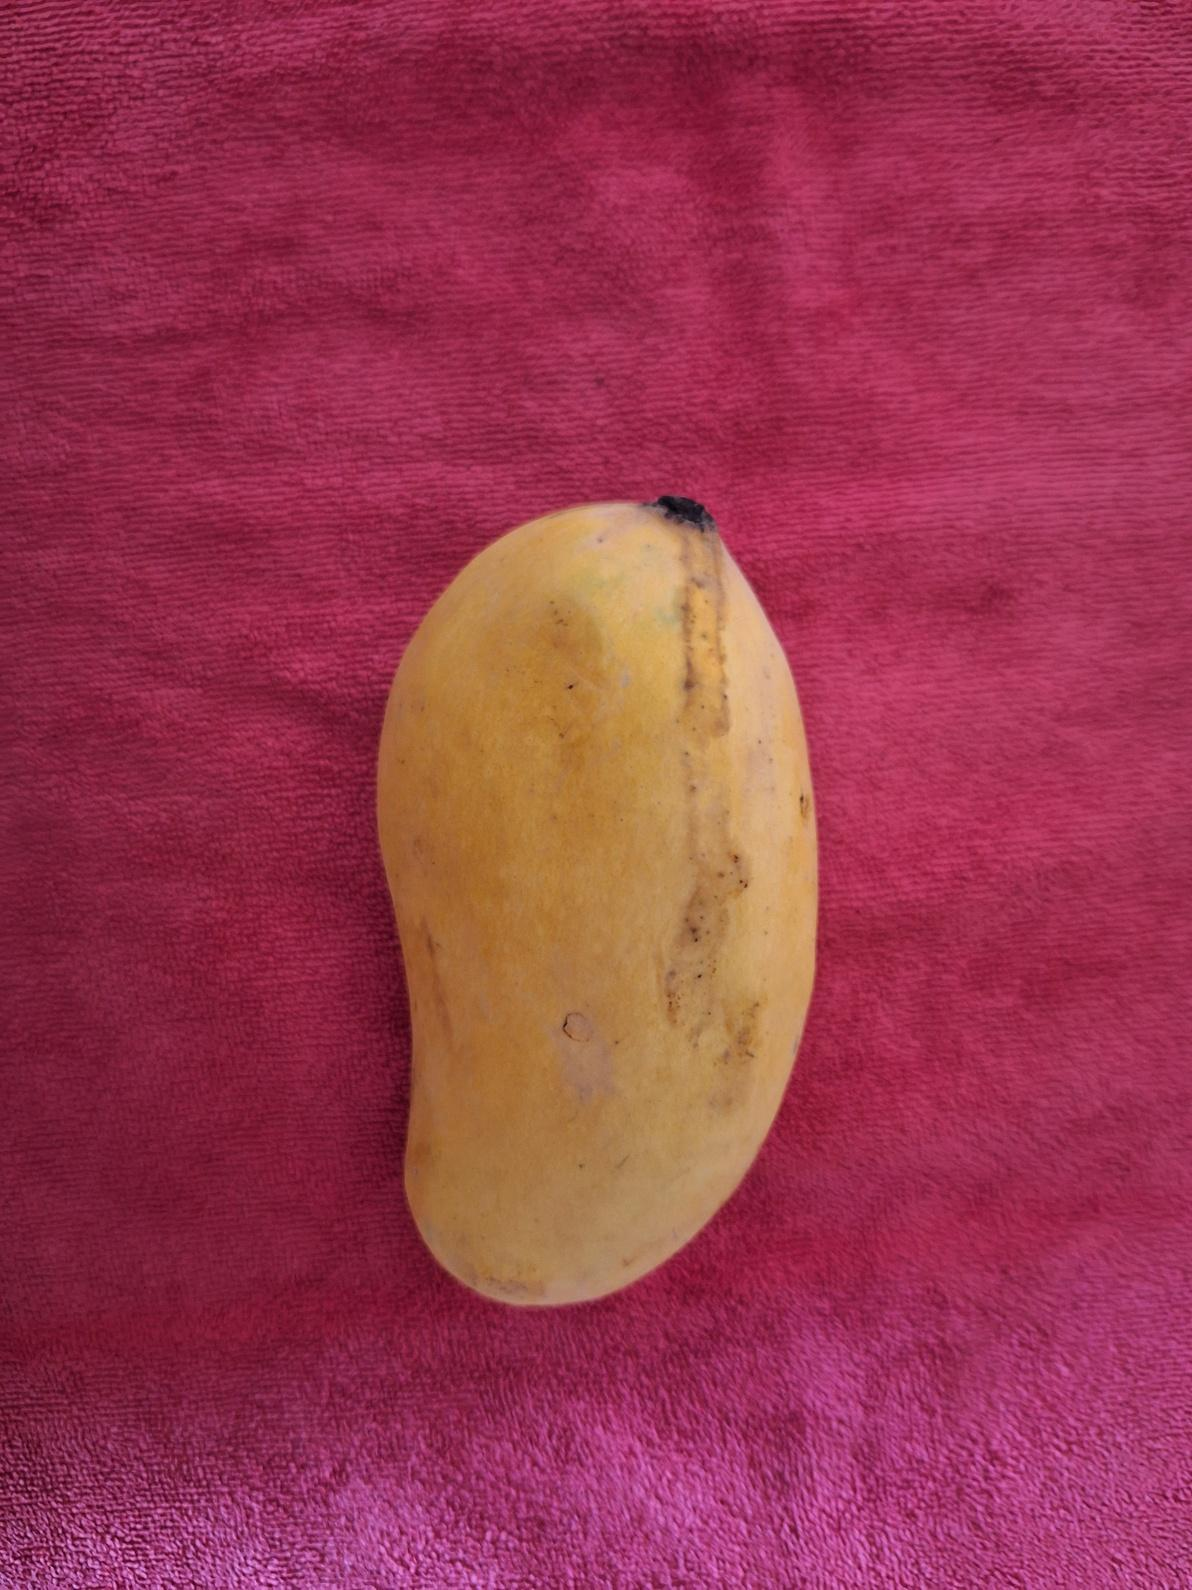mango: (374, 493, 820, 1307)
